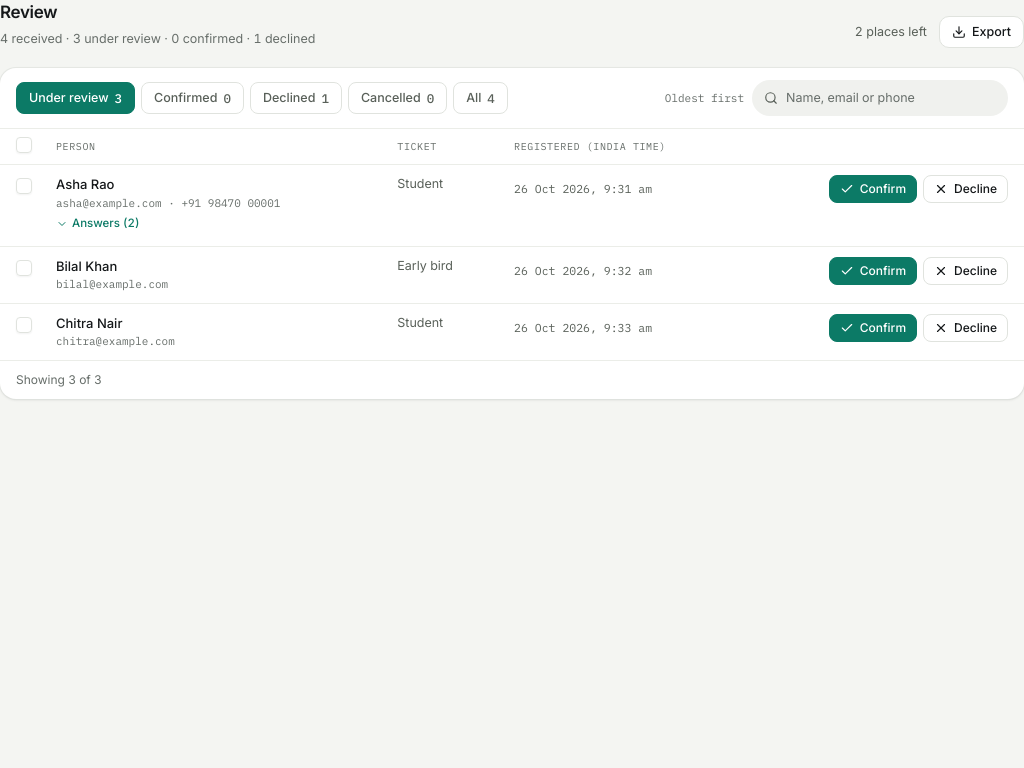
Scenario: deciding › warns before confirming more than the places left, sends them oldest first, and says what was skipped
Expected: the text "2 places left" is shown, [855,23,927,42]
// Ticked out of order: they still go in queue order.
Click the checkbox named "Select Chitra Nair" at (24, 325), box [16,317,32,333]
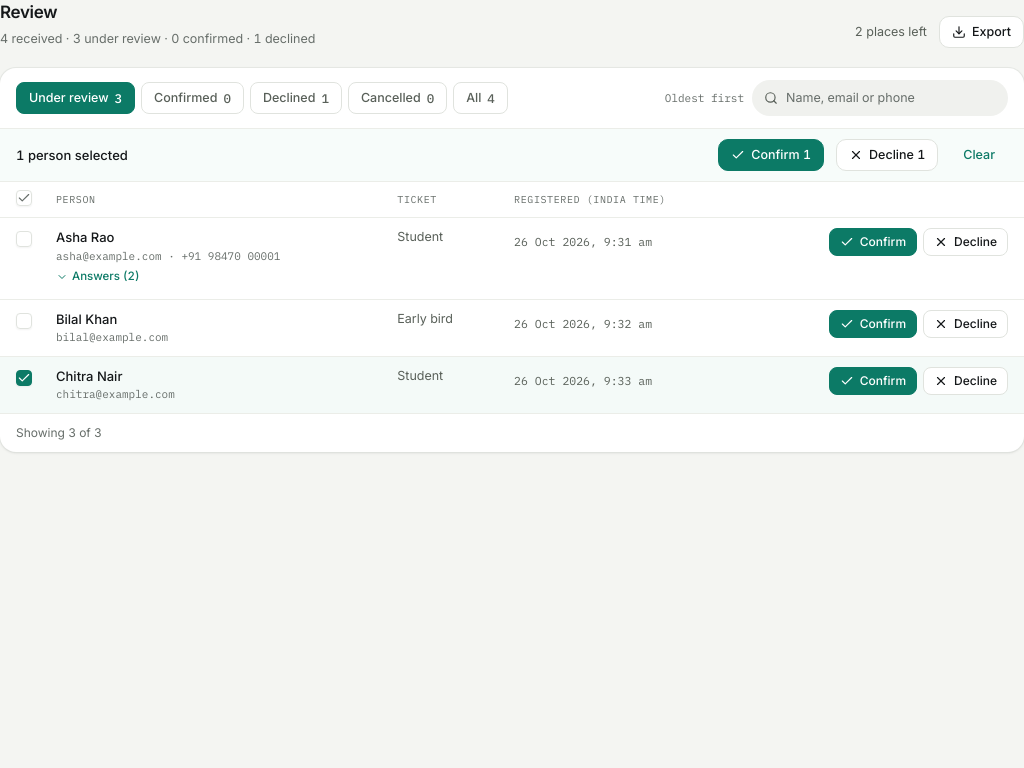
Click the checkbox named "Select Asha Rao" at (24, 239), box [16,231,32,247]
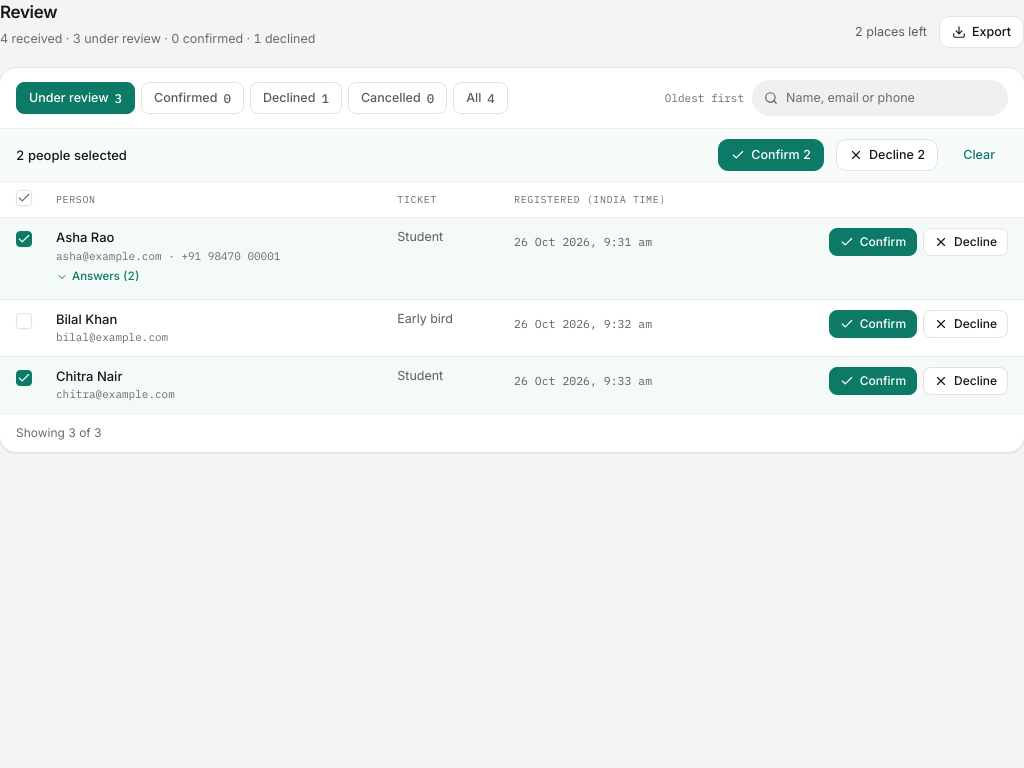
Click the checkbox named "Select Bilal Khan" at (24, 321), box [16,313,32,329]
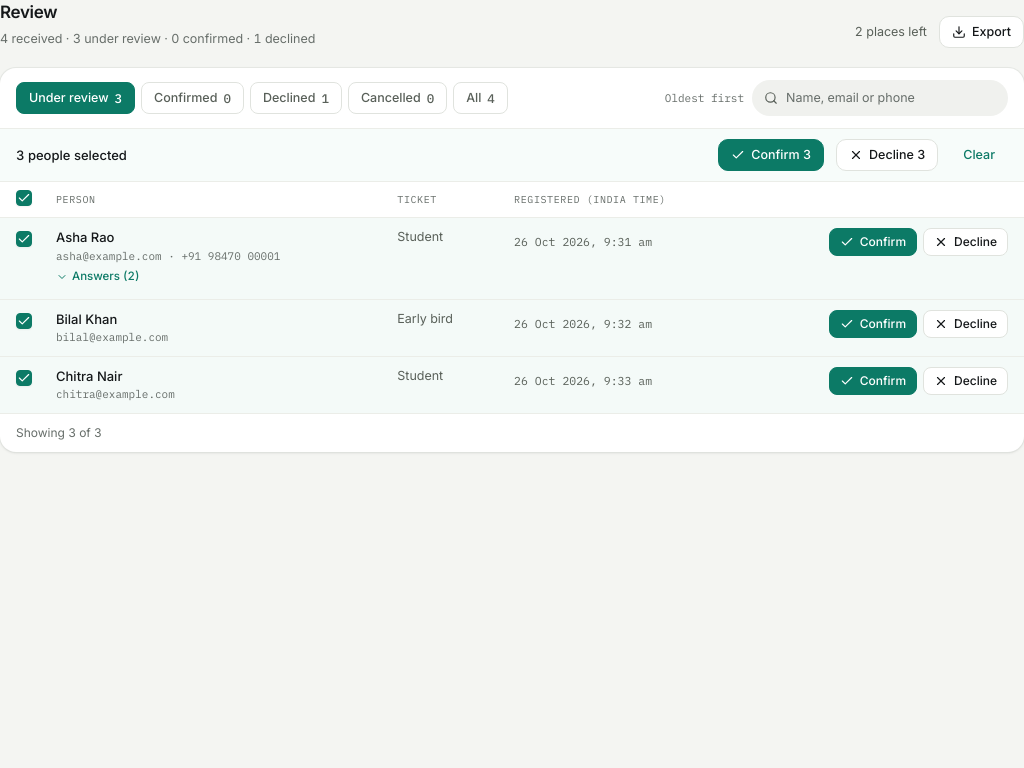
Now the text "3 people selected" is shown, box [16,146,127,165]
Click the button "Confirm 3" at (771, 155), box [718,139,824,171]
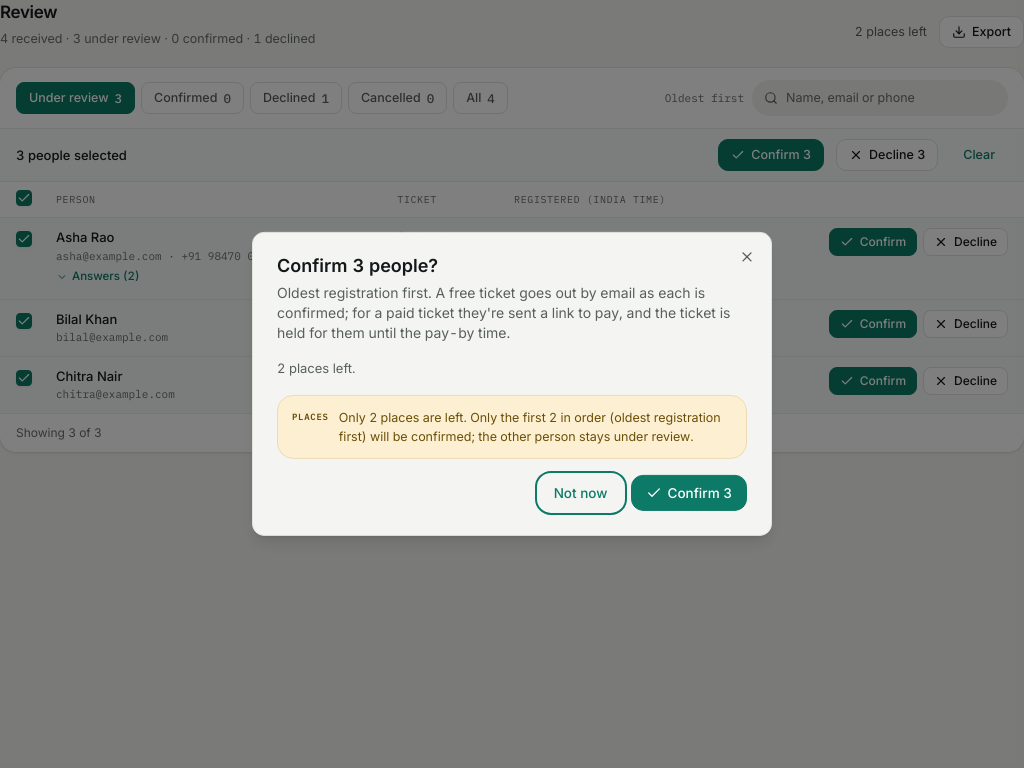
Now the heading "Confirm 3 people?" is shown, box [277,255,438,276]
Now the text "Only 2 places are left. Only the first 2 in order (oldest registration first) will be confirmed; the other person stays " is shown, box [339,409,721,444]
Click the button "Confirm 3" at (689, 493), box [630,475,747,511]
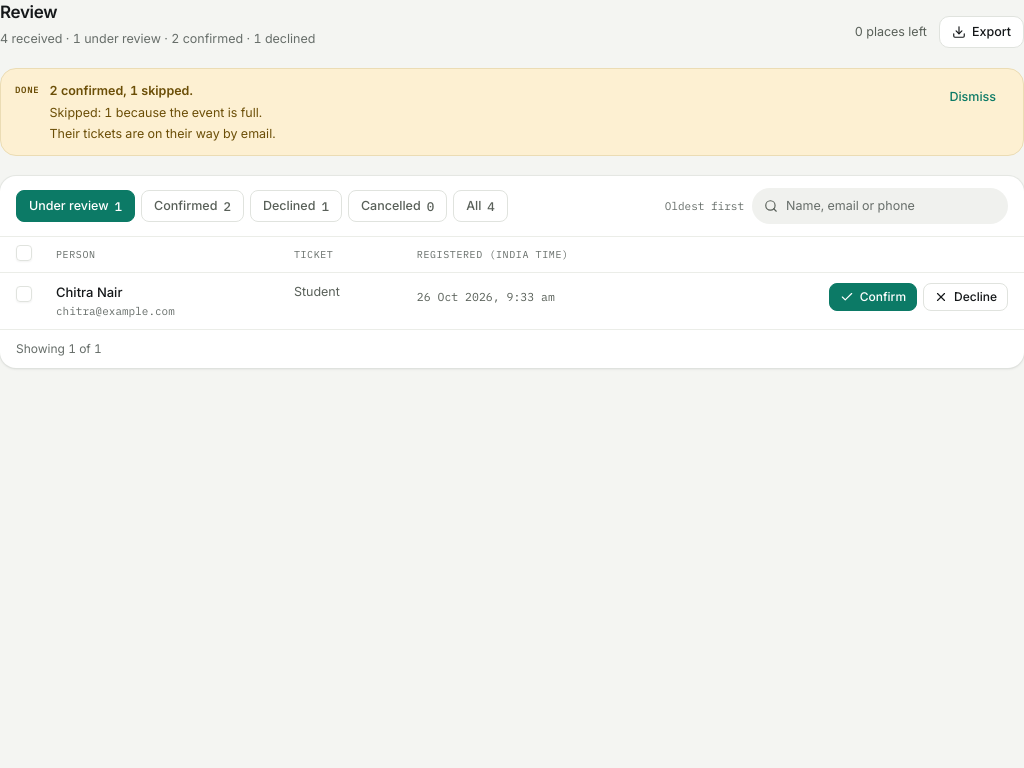
Now the text "2 confirmed, 1 skipped." is shown, box [50,83,193,98]
Now the text "Skipped: 1 because the event is full." is shown, box [50,105,262,120]
Now the dialog is gone
